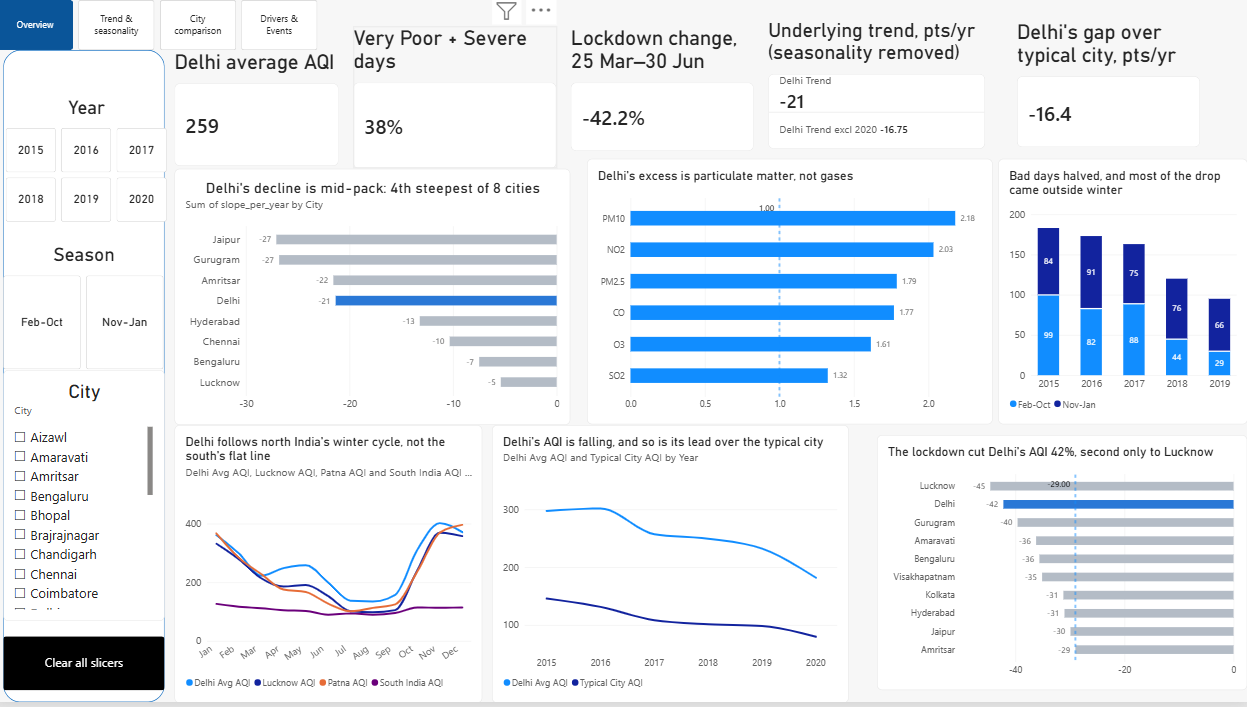

The page's visual inventory and layout, read from the dashboard file:
{"tool":"powerbi","page":{"name":"Overview","canvas":[1920,1080],"ordinal":0},"visuals":[{"type":"shape","box":[10.4,77.1,247.9,1002.1],"z":0},{"type":"advancedSlicerVisual","fields":{"Values":["Date.Year"]},"box":[12.5,147.9,247.9,193.8],"z":1000},{"type":"advancedSlicerVisual","title":"Season","fields":{"Values":["Date.Season"]},"box":[10.4,375,247.9,193.8],"z":2000},{"type":"listSlicer","title":"City","fields":{"Values":["city_day.City"]},"box":[10.4,568.8,247.9,385.4],"z":3000},{"type":"cardVisual","title":"Delhi average AQI","fields":{"Data":["New_Measures.Delhi Avg AQI"]},"box":[272.9,77.1,252.1,179.2],"z":4000},{"type":"cardVisual","title":"Very Poor + Severe days","fields":{"Data":["New_Measures.Delhi Bad Day %"]},"box":[547.9,39.6,312.5,218.8],"z":5000},{"type":"cardVisual","title":"Lockdown change, 25 Mar–30 Jun","fields":{"Data":["New_Measures.Delhi Lockdown Change %"]},"box":[881.2,39.6,281.2,191.7],"z":6000},{"type":"clusteredBarChart","title":"Delhi''s decline is mid-pack: 4th steepest of 8 cities","fields":{"Category":["city_trends.City"],"Y":["Sum(city_trends.slope_per_year)"]},"box":[272.9,258.3,608.3,393.8],"z":7000},{"type":"cardVisual","title":"Underlying trend, pts/yr (seasonality removed)","fields":{"Data":["New_Measures.Delhi Trend"]},"box":[1185.4,29.2,333.3,200],"z":8000},{"type":"cardVisual","title":"Delhi''s gap over typical city, pts/yr","fields":{"Data":["New_Measures.Gap Trend"]},"box":[1566.7,31.2,281.2,195.8],"z":9000},{"type":"lineChart","title":"Delhi''s AQI is falling, and so is its lead over the typical city","fields":{"Category":["Date.Year"],"Y":["New_Measures.Delhi Avg AQI","New_Measures.Typical City AQI"]},"box":[760.4,652.1,547.9,427.1],"z":10000},{"type":"lineChart","title":"Delhi follows north India''s winter cycle, not the south''s flat line","fields":{"Category":["Date.Month"],"Y":["New_Measures.Delhi Avg AQI","New_Measures.Lucknow AQI","New_Measures.Patna AQI","New_Measures.South India AQI"]},"box":[272.9,652.1,472.9,427.1],"z":11000},{"type":"columnChart","title":"Bad days halved, and most of the drop came outside winter","fields":{"Category":["Date.Year"],"Series":["Date.Season"],"Y":["New_Measures.Delhi Bad Days"]},"box":[1537.5,243.8,383.3,408.3],"z":12000},{"type":"clusteredBarChart","title":"The lockdown cut Delhi''s AQI 42%, second only to Lucknow","fields":{"Category":["lockdown_change.City"],"Y":["Sum(lockdown_change.pct_change)"]},"box":[1352.1,668.8,569,392],"z":13000},{"type":"clusteredBarChart","title":"Delhi''s excess is particulate matter, not gases","fields":{"Category":["PollutantTbl.Pollutant"],"Y":["New_Measures.Delhi vs Others"]},"box":[906.2,243.8,622.9,408.3],"z":14000},{"type":"actionButton","box":[10.4,977.1,247.9,83.3],"z":15000},{"type":"pageNavigator","box":[0,0,493.8,77.1],"z":15001}]}

Visuals, with their boxes in screenshot pixels (x1, y1, x2, y2), scaled from the page's 1920x1080 canvas onto the 1247x707 screenshot:
shape: select_region(7, 50, 168, 706)
advancedSlicerVisual - Date.Year: select_region(8, 97, 169, 224)
"Season" advancedSlicerVisual: select_region(7, 245, 168, 372)
"City" listSlicer: select_region(7, 372, 168, 625)
"Delhi average AQI" cardVisual: select_region(177, 50, 341, 168)
"Very Poor + Severe days" cardVisual: select_region(356, 26, 559, 169)
"Lockdown change, 25 Mar–30 Jun" cardVisual: select_region(572, 26, 755, 151)
"Delhi''s decline is mid-pack: 4th steepest of 8 cities" clusteredBarChart: select_region(177, 169, 572, 427)
"Underlying trend, pts/yr (seasonality removed)" cardVisual: select_region(770, 19, 986, 150)
"Delhi''s gap over typical city, pts/yr" cardVisual: select_region(1018, 20, 1200, 149)
"Delhi''s AQI is falling, and so is its lead over the typical city" lineChart: select_region(494, 427, 850, 706)
"Delhi follows north India''s winter cycle, not the south''s flat line" lineChart: select_region(177, 427, 484, 706)
"Bad days halved, and most of the drop came outside winter" columnChart: select_region(999, 160, 1246, 427)
"The lockdown cut Delhi''s AQI 42%, second only to Lucknow" clusteredBarChart: select_region(878, 438, 1246, 694)
"Delhi''s excess is particulate matter, not gases" clusteredBarChart: select_region(589, 160, 993, 427)
actionButton: select_region(7, 640, 168, 694)
pageNavigator: select_region(0, 0, 321, 50)
